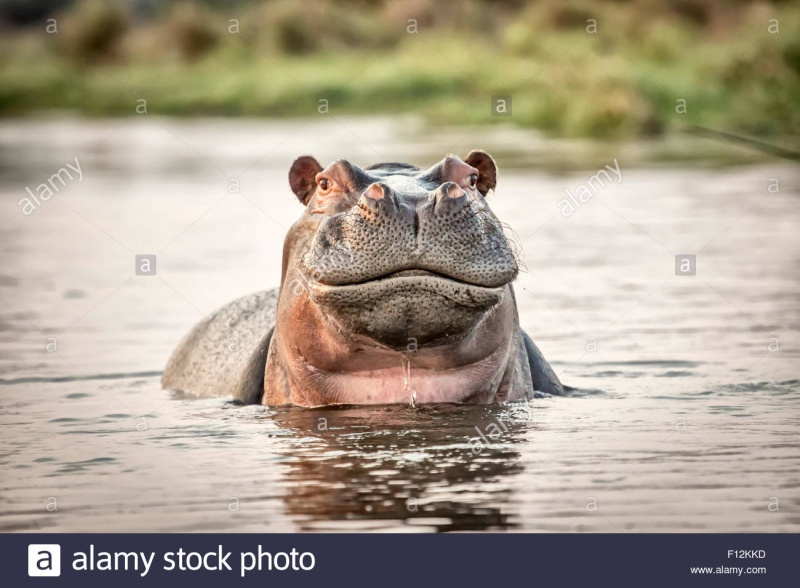hipopotamo: (163, 146, 575, 418)
